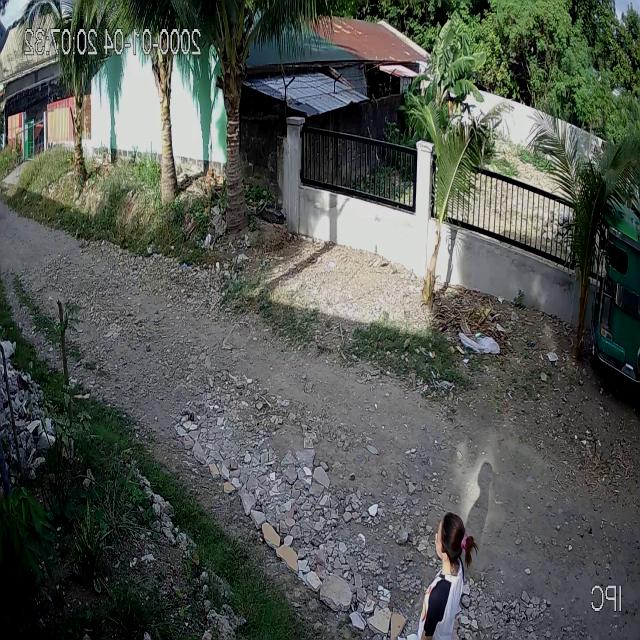standing: (413, 507, 479, 640)
